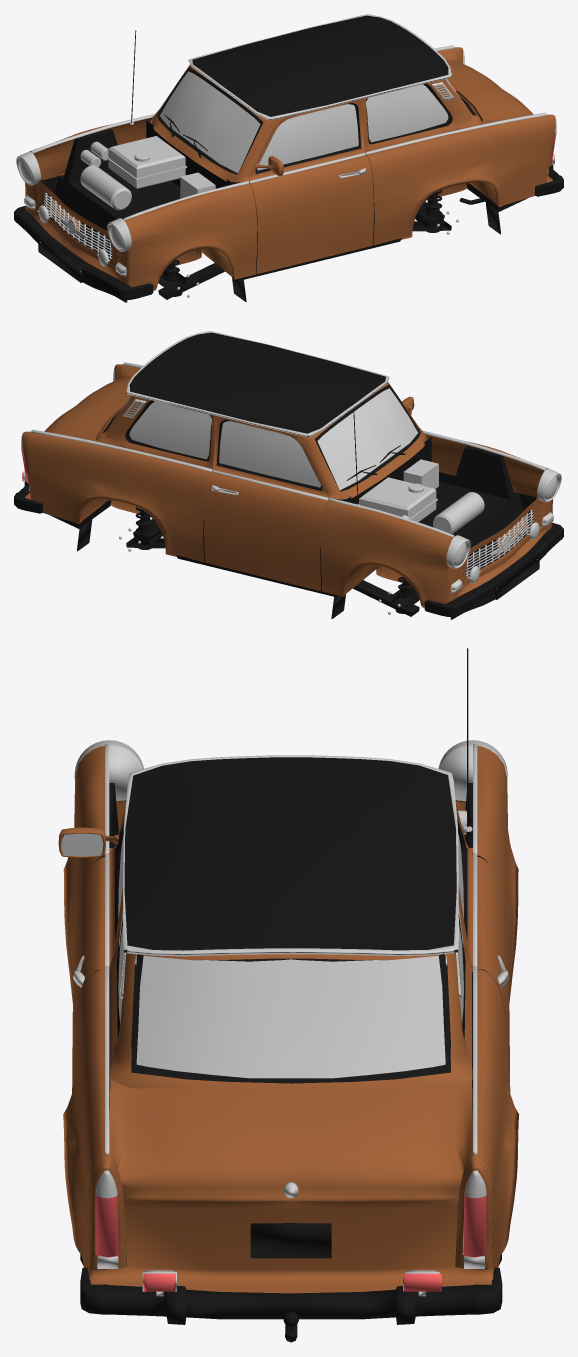
The model's file is carro_1.obj.
3 views of the same model, one above another, from view 1: azimuth 30°, elevation 25°; view 2: azimuth 150°, elevation 25°; view 3: azimuth 270°, elevation 25° (orthographic). The views are drawn at different scales.
Visible parts, largest first — view 1: Chassis_side_middle_ONELVXE|Misc_Car_Paint, Chassis_side_middle_Oil, Chassis_side_middle_Glass_2.3, Chassis_side_middle_playerColor_steel, Chassis_side_middle_, Chassis_side_middle_Glass_2.001; view 2: Chassis_side_middle_ONELVXE|Misc_Car_Paint, Chassis_side_middle_Oil, Chassis_side_middle_Glass_2.3, Chassis_side_middle_playerColor_steel, Chassis_side_middle_, Chassis_side_middle_Glass_2.001; view 3: Chassis_side_middle_ONELVXE|Misc_Car_Paint, Chassis_side_middle_Oil, Chassis_side_middle_Glass_2.3, Chassis_side_middle_playerColor_steel, Chassis_side_middle_playerColor_red, Chassis_side_middle_Glass_2.001.
Part boxes in pixels (<box>): Chassis_side_middle_ONELVXE|Misc_Car_Paint: <box>25,47,555,290</box>; Chassis_side_middle_Oil: <box>14,15,563,302</box>; Chassis_side_middle_Glass_2.3: <box>20,71,467,249</box>; Chassis_side_middle_playerColor_steel: <box>16,14,554,297</box>; Chassis_side_middle_: <box>80,136,215,210</box>; Chassis_side_middle_Glass_2.001: <box>24,50,556,276</box>; Chassis_side_middle_ONELVXE|Misc_Car_Paint: <box>22,364,552,607</box>; Chassis_side_middle_Oil: <box>14,332,563,619</box>; Chassis_side_middle_Glass_2.3: <box>110,388,557,566</box>; Chassis_side_middle_playerColor_steel: <box>23,331,561,614</box>; Chassis_side_middle_: <box>359,459,484,534</box>; Chassis_side_middle_Glass_2.001: <box>21,367,553,593</box>; Chassis_side_middle_ONELVXE|Misc_Car_Paint: <box>58,745,518,1293</box>; Chassis_side_middle_Oil: <box>75,648,506,1342</box>; Chassis_side_middle_Glass_2.3: <box>118,833,463,1078</box>; Chassis_side_middle_playerColor_steel: <box>61,740,509,1296</box>; Chassis_side_middle_playerColor_red: <box>95,1195,486,1291</box>; Chassis_side_middle_Glass_2.001: <box>95,1170,486,1268</box>.
Size of the model in its own units: 3.34 by 1.38 by 1.4.
